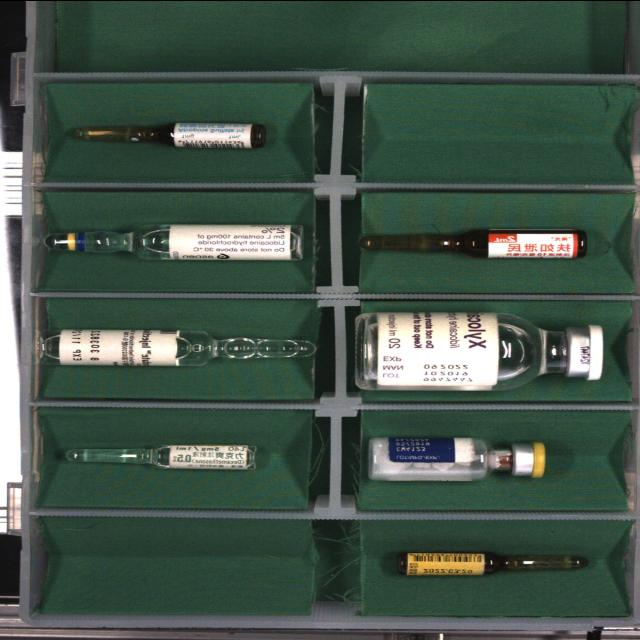Vials: (356, 311, 603, 389), (369, 436, 546, 480)
